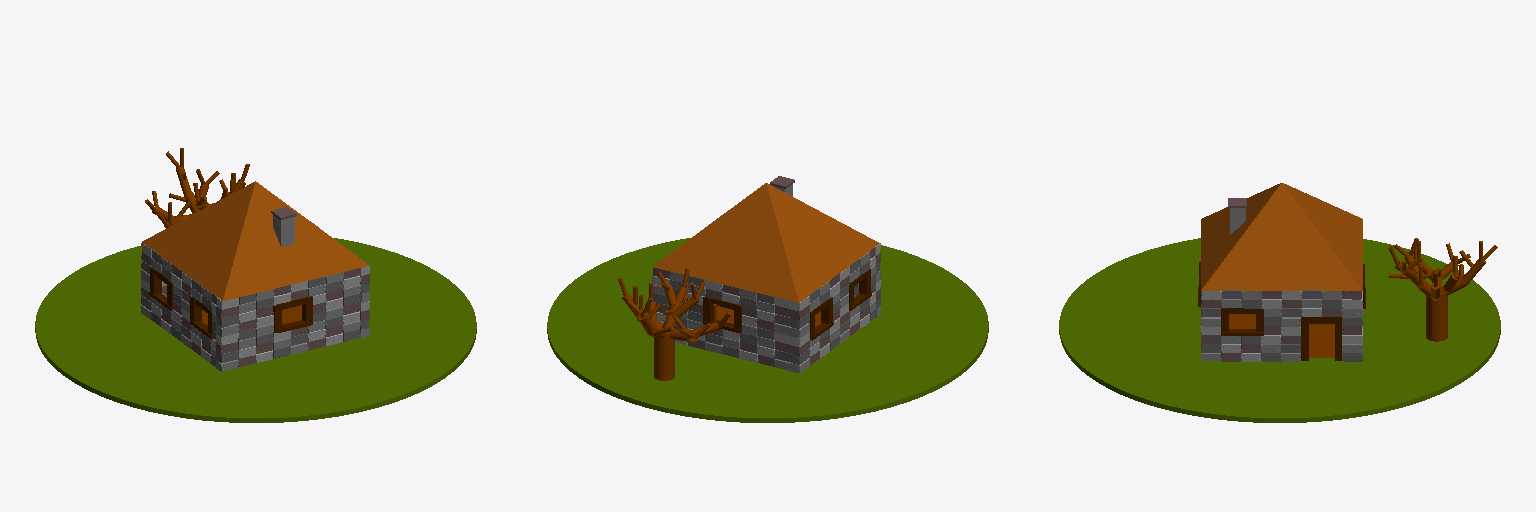
Rendered from old_house.obj.
3 views of the same model, side by side, from view 1: azimuth 30°, elevation 25°; view 2: azimuth 150°, elevation 25°; view 3: azimuth 270°, elevation 25° (orthographic).
Visible parts, largest first — view 1: Object258, Object144, Object294; view 2: Object258, Object144, Object259; view 3: Object258, Object144, Object257, Object259.
Part boxes in pixels (x1,y1,x2,y2): Object258: (35, 238, 476, 422); Object144: (142, 181, 369, 300); Object294: (273, 215, 294, 246); Object258: (547, 238, 988, 422); Object144: (653, 183, 880, 302); Object259: (654, 328, 674, 380); Object258: (1059, 238, 1500, 422); Object144: (1201, 183, 1362, 290); Object257: (1229, 314, 1334, 357); Object259: (1426, 292, 1447, 341).
Bounding box in the file's own units: 124 × 45.79 × 124.